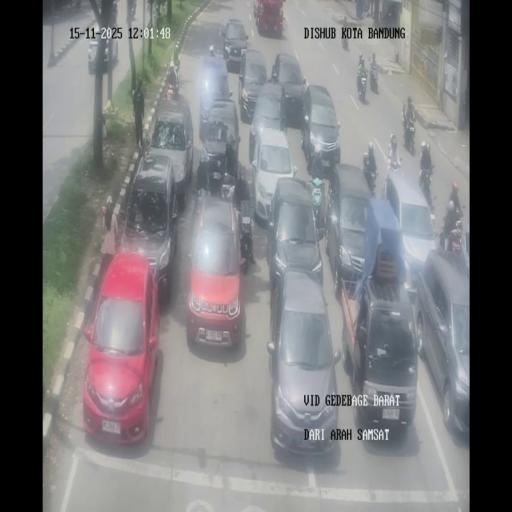car: (82, 252, 160, 444), (342, 260, 419, 442), (267, 271, 340, 458), (414, 247, 469, 440), (185, 189, 246, 351), (382, 169, 440, 294), (328, 164, 374, 292), (146, 100, 193, 204), (251, 126, 297, 226), (302, 84, 340, 174), (198, 54, 232, 137), (270, 52, 307, 124), (238, 48, 268, 122), (221, 18, 249, 68), (88, 34, 119, 74), (253, 0, 285, 38)
motorcycle: (204, 154, 228, 198), (441, 208, 464, 251), (309, 175, 326, 232), (239, 221, 255, 269), (418, 166, 434, 207), (402, 114, 416, 153), (363, 162, 377, 196), (356, 67, 368, 102), (165, 74, 179, 102), (386, 147, 402, 171), (369, 62, 379, 94), (208, 43, 223, 60), (172, 48, 180, 76), (126, 0, 136, 22), (429, 211, 437, 237), (342, 27, 350, 51), (111, 0, 118, 22), (358, 52, 365, 72), (363, 0, 370, 17)
